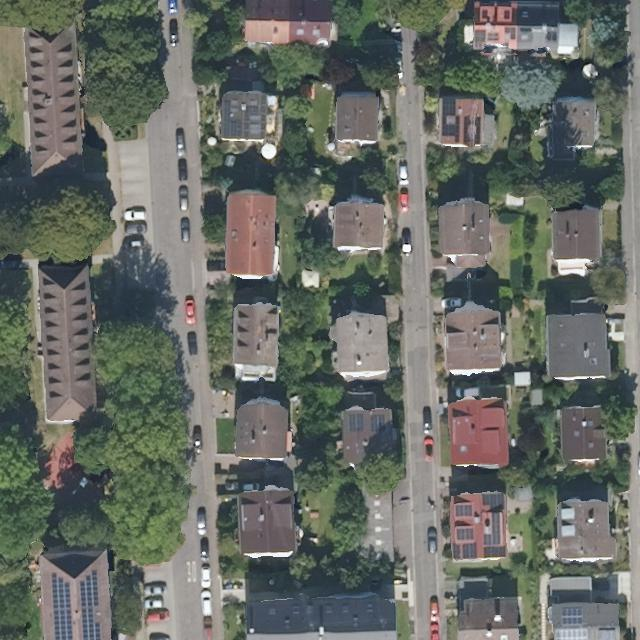PV: (50, 568, 75, 640), (79, 566, 102, 639), (220, 98, 242, 141), (369, 409, 389, 434), (348, 410, 365, 434)
